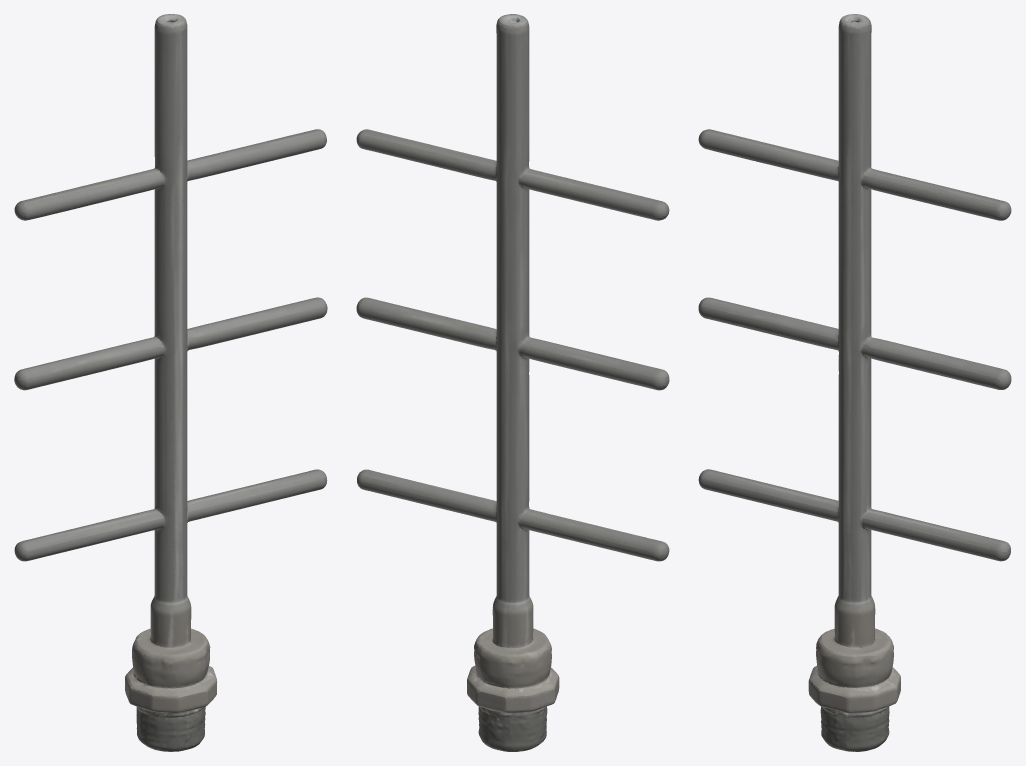
3 renders of one model, left to right at view 1: azimuth 30°, elevation 25°; view 2: azimuth 150°, elevation 25°; view 3: azimuth 330°, elevation 25°, orthographic.
Visible parts, largest first — view 1: geometry_0; view 2: geometry_0; view 3: geometry_0.
Boxes of the visible parts, x1,y1,x2,y2 form: geometry_0: (14,14,327,751); geometry_0: (356,14,669,751); geometry_0: (698,14,1011,751).
Bounding box in the file's own units: 0.35 × 0.7795 × 0.0859.
1 material, 1 textured.
